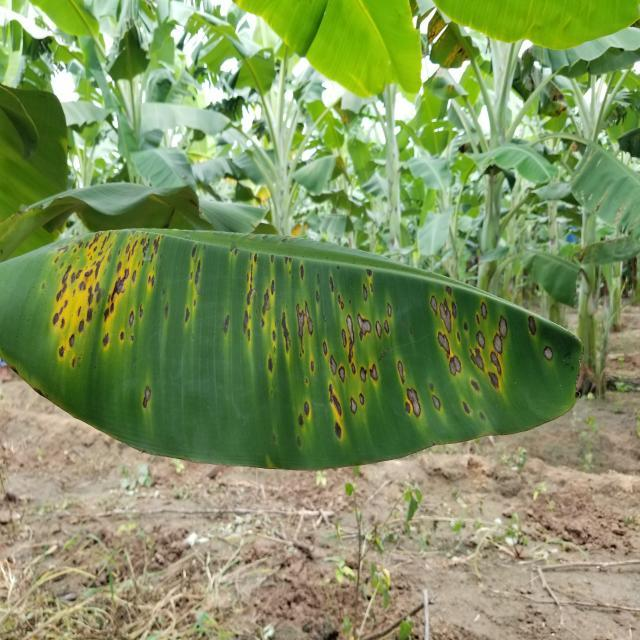Early_rust: (11, 223, 581, 454), (410, 0, 483, 102)
